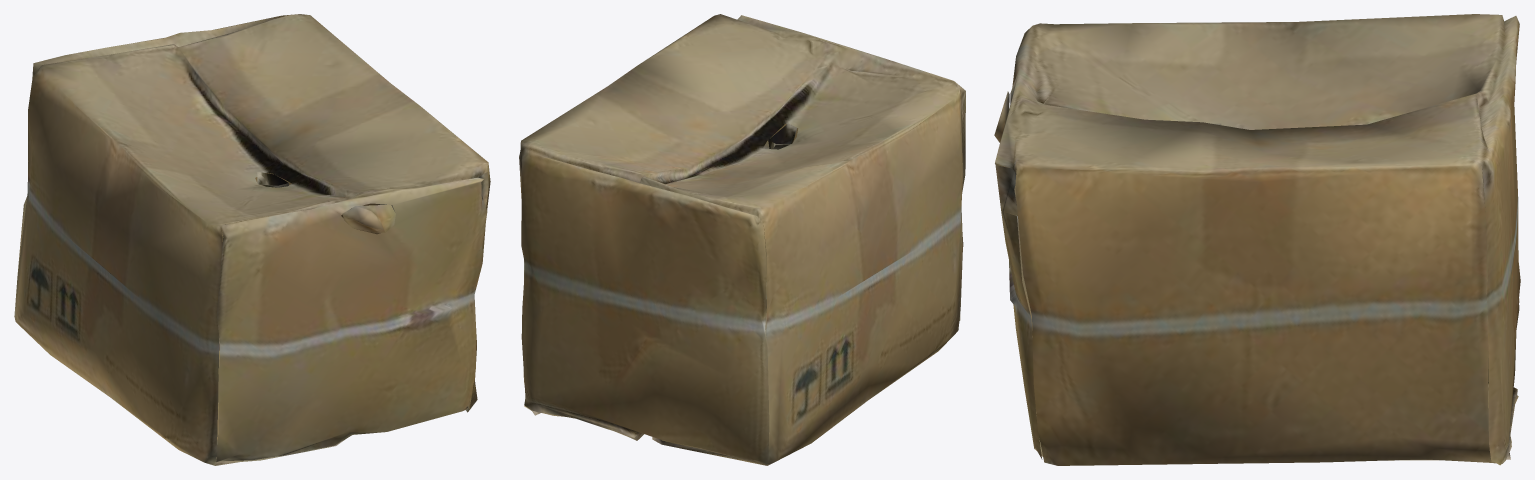
File: cardboard_box_01.glb
The picture shows the model from 3 angles, left to right: view 1: azimuth 30°, elevation 25°; view 2: azimuth 150°, elevation 25°; view 3: azimuth 270°, elevation 25°; orthographic projection. The views are drawn at different scales.
Parts seen in each view (by area): view 1: cardboard_box_01; view 2: cardboard_box_01; view 3: cardboard_box_01.
Part boxes in pixels (left/top/right/bottom): cardboard_box_01: left=14, top=14, right=490, bottom=465; cardboard_box_01: left=519, top=14, right=965, bottom=465; cardboard_box_01: left=994, top=14, right=1520, bottom=465.
Bounding box in the file's own units: 0.3872 × 0.3404 × 0.5151.
Materials: 1 (1 with a texture image).
